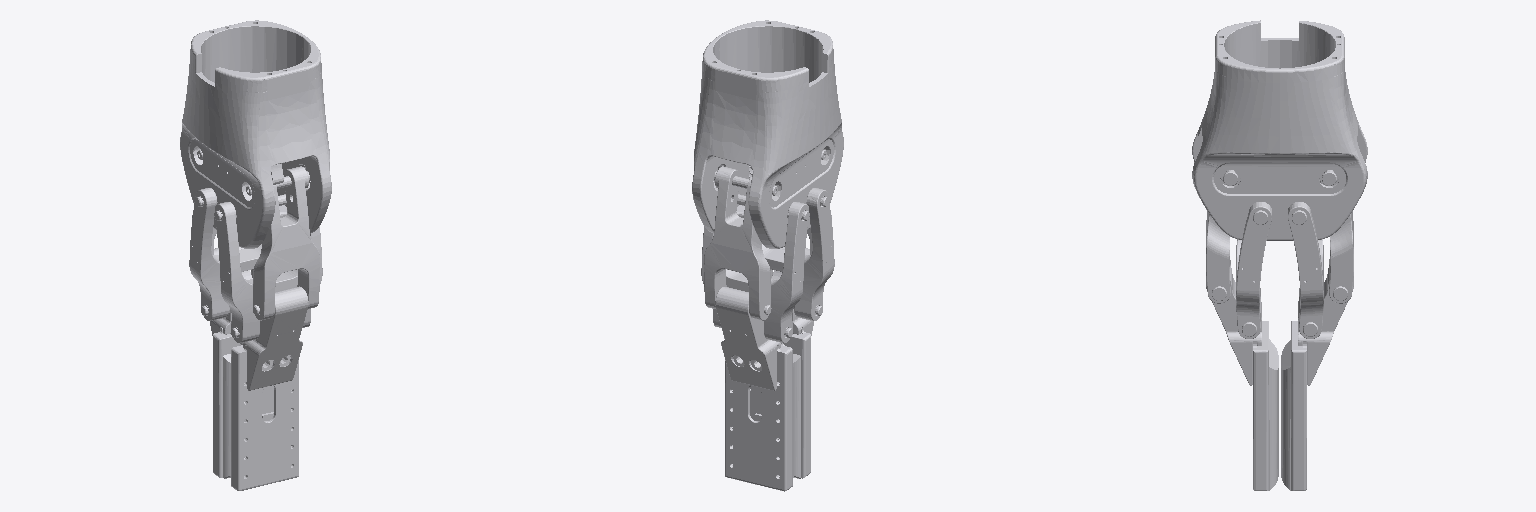
robot.urdf — gripper_V2_0_description:
<?xml version="1.0" encoding="utf-8"?>

<robot
  name="gripper_V2_0_description">
  <link
    name="link_lt_gripper_base">
    <inertial>
      <origin
        xyz="-0.000980332060006024 -0.000165460803064683 -0.0380637297528955"
        rpy="0 0 0" />
      <mass
        value="0.148362683973387" />
      <inertia
        ixx="0.000108524117304559"
        ixy="-1.98918959340993E-07"
        ixz="-5.04558013460517E-07"
        iyy="8.91872435110639E-05"
        iyz="-8.37372786805607E-08"
        izz="7.54521906672916E-05" />
    </inertial>
    <visual>
      <origin
        xyz="0 0 0"
        rpy="0 0 0" />
      <geometry>
        <mesh
          filename="package://gripper_V2_0_description/meshes/link_lt_gripper_base.STL" />
      </geometry>
      <material
        name="">
        <color
          rgba="0.866666666666667 0.866666666666667 0.890196078431372 1" />
      </material>
    </visual>
    <collision>
      <origin
        xyz="0 0 0"
        rpy="0 0 0" />
      <geometry>
        <mesh
          filename="package://gripper_V2_0_description/meshes/link_lt_gripper_base.STL" />
      </geometry>
    </collision>
  </link>
  <link
    name="link_lt_gripper_drive">
    <visual>
      <origin
        xyz="0 0 0"
        rpy="0 0 0" />
      <geometry>
        <mesh
          filename="package://gripper_V2_0_description/meshes/link_lt_gripper_drive.STL" />
      </geometry>
      <material
        name="">
        <color
          rgba="0.866666666666667 0.866666666666667 0.890196078431372 1" />
      </material>
    </visual>
    <collision>
      <origin
        xyz="0 0 0"
        rpy="0 0 0" />
      <geometry>
        <mesh
          filename="package://gripper_V2_0_description/meshes/link_lt_gripper_drive.STL" />
      </geometry>
    </collision>
  </link>
  <joint
    name="joint_lt_gripper_drive"
    type="revolute">
    <origin
      xyz="-0.00079195 0 -0.031"
      rpy="0 0 0" />
    <parent
      link="link_lt_gripper_base" />
    <child
      link="link_lt_gripper_drive" />
    <axis
      xyz="0 0 -1" />
    <limit
      lower="0"
      upper="1.44862"
      effort="6"
      velocity="0.78540" />
  </joint>
  <link
    name="link_lt_gripper_knuckle_left_outer">
    <inertial>
      <origin
        xyz="2.86107331813327E-05 -0.0235652743366583 -0.037949799327442"
        rpy="0 0 0" />
      <mass
        value="0.0542841793588412" />
      <inertia
        ixx="2.49252404499279E-05"
        ixy="1.5522825054212E-11"
        ixz="-2.63456908981634E-11"
        iyy="2.61457716782546E-05"
        iyz="3.1465581323358E-06"
        izz="3.63669814336204E-06" />
    </inertial>
    <visual>
      <origin
        xyz="0 0 0"
        rpy="0 0 0" />
      <geometry>
        <mesh
          filename="package://gripper_V2_0_description/meshes/link_lt_gripper_knuckle_left_outer.STL" />
      </geometry>
      <material
        name="">
        <color
          rgba="0.866666666666667 0.866666666666667 0.890196078431372 1" />
      </material>
    </visual>
    <collision>
      <origin
        xyz="0 0 0"
        rpy="0 0 0" />
      <geometry>
        <mesh
          filename="package://gripper_V2_0_description/meshes/link_lt_gripper_knuckle_left_outer.STL" />
      </geometry>
    </collision>
  </link>
  <joint
    name="joint_lt_gripper_knuckle_left_outer"
    type="revolute">
    <origin
      xyz="-0.00079195 0.018992 -0.05"
      rpy="0 0 0" />
    <parent
      link="link_lt_gripper_base" />
    <child
      link="link_lt_gripper_knuckle_left_outer" />
    <axis
      xyz="1 0 0" />
    <limit
      lower="0"
      upper="1.44862"
      effort="6"
      velocity="0.78540" />
    <mimic
      joint="joint_lt_gripper_drive"
      multiplier="1"
      offset="0" />
  </joint>
  <link
    name="link_lt_gripper_finger_left">
    <inertial>
      <origin
        xyz="2.56595310106296E-05 -0.0254574097735164 -0.0218146948643816"
        rpy="0 0 0" />
      <mass
        value="0.0864607010067869" />
      <inertia
        ixx="3.23998364747912E-05"
        ixy="1.91414144920886E-09"
        ixz="-5.61810150104366E-09"
        iyy="3.47600641615956E-05"
        iyz="2.11804671469973E-06"
        izz="5.51801591712787E-06" />
    </inertial>
    <visual>
      <origin
        xyz="0 0 0"
        rpy="0 0 0" />
      <geometry>
        <mesh
          filename="package://gripper_V2_0_description/meshes/link_lt_gripper_finger_left.STL" />
      </geometry>
      <material
        name="">
        <color
          rgba="0.866666666666667 0.866666666666667 0.890196078431372 1" />
      </material>
    </visual>
    <collision>
      <origin
        xyz="0 0 0"
        rpy="0 0 0" />
      <geometry>
        <mesh
          filename="package://gripper_V2_0_description/meshes/link_lt_gripper_finger_left.STL" />
      </geometry>
    </collision>
  </link>
  <joint
    name="joint_lt_gripper_finger_left"
    type="revolute">
    <origin
      xyz="0 0.0043547 -0.04981"
      rpy="0 0 0" />
    <parent
      link="link_lt_gripper_knuckle_left_outer" />
    <child
      link="link_lt_gripper_finger_left" />
    <axis
      xyz="-1 0 0" />
    <limit
      lower="0"
      upper="1.44862"
      effort="6"
      velocity="0.78540" />
    <mimic
      joint="joint_lt_gripper_drive"
      multiplier="1"
      offset="0" />
  </joint>
  <link
    name="link_lt_gripper_knuckle_left_inner">
    <inertial>
      <origin
        xyz="4.40656810463356E-05 0.00379719277771037 -0.0284917519280255"
        rpy="0 0 0" />
      <mass
        value="0.0231471998062083" />
      <inertia
        ixx="4.33507368102839E-06"
        ixy="8.31321371397514E-12"
        ixz="-1.63717540455618E-11"
        iyy="8.89789850261164E-06"
        iyz="3.34501127650135E-07"
        izz="4.92665747896934E-06" />
    </inertial>
    <visual>
      <origin
        xyz="0 0 0"
        rpy="0 0 0" />
      <geometry>
        <mesh
          filename="package://gripper_V2_0_description/meshes/link_lt_gripper_knuckle_left_inner.STL" />
      </geometry>
      <material
        name="">
        <color
          rgba="0.866666666666667 0.866666666666667 0.890196078431372 1" />
      </material>
    </visual>
    <collision>
      <origin
        xyz="0 0 0"
        rpy="0 0 0" />
      <geometry>
        <mesh
          filename="package://gripper_V2_0_description/meshes/link_lt_gripper_knuckle_left_inner.STL" />
      </geometry>
    </collision>
  </link>
  <joint
    name="joint_lt_gripper_knuckle_left_inner"
    type="revolute">
    <origin
      xyz="-0.00079195 0.0074222 -0.06378"
      rpy="0 0 0" />
    <parent
      link="link_lt_gripper_base" />
    <child
      link="link_lt_gripper_knuckle_left_inner" />
    <axis
      xyz="1 0 0" />
    <limit
      lower="0"
      upper="1.44862"
      effort="6"
      velocity="0.78540" />
    <mimic
      joint="joint_lt_gripper_drive"
      multiplier="1"
      offset="0" />
  </joint>
  <link
    name="link_lt_gripper_knuckle_right_outer">
    <inertial>
      <origin
        xyz="2.81848398361E-05 0.0235652741269535 -0.0379497987923611"
        rpy="0 0 0" />
      <mass
        value="0.0542841781980837" />
      <inertia
        ixx="2.49252400290207E-05"
        ixy="1.55006019846684E-11"
        ixz="2.62589216274227E-11"
        iyy="2.61457712806372E-05"
        iyz="-3.14655803207556E-06"
        izz="3.63669809325367E-06" />
    </inertial>
    <visual>
      <origin
        xyz="0 0 0"
        rpy="0 0 0" />
      <geometry>
        <mesh
          filename="package://gripper_V2_0_description/meshes/link_lt_gripper_knuckle_right_outer.STL" />
      </geometry>
      <material
        name="">
        <color
          rgba="0.866666666666667 0.866666666666667 0.890196078431372 1" />
      </material>
    </visual>
    <collision>
      <origin
        xyz="0 0 0"
        rpy="0 0 0" />
      <geometry>
        <mesh
          filename="package://gripper_V2_0_description/meshes/link_lt_gripper_knuckle_right_outer.STL" />
      </geometry>
    </collision>
  </link>
  <joint
    name="joint_lt_gripper_knuckle_right_outer"
    type="revolute">
    <origin
      xyz="-0.00079195 -0.019008 -0.05"
      rpy="0 0 0" />
    <parent
      link="link_lt_gripper_base" />
    <child
      link="link_lt_gripper_knuckle_right_outer" />
    <axis
      xyz="-1 0 0" />
    <limit
      lower="0"
      upper="1.44862"
      effort="6"
      velocity="0.78540" />
    <mimic
      joint="joint_lt_gripper_drive"
      multiplier="1"
      offset="0" />
  </joint>
  <link
    name="link_lt_gripper_finger_right">
    <inertial>
      <origin
        xyz="1.17830297459924E-05 0.0254574075050252 -0.0218146965213329"
        rpy="0 0 0" />
      <mass
        value="0.0864606849680532" />
      <inertia
        ixx="3.23998306352358E-05"
        ixy="1.91367598294277E-09"
        ixz="5.61632016171255E-09"
        iyy="3.47600582303323E-05"
        iyz="-2.11804532167411E-06"
        izz="5.51801482447027E-06" />
    </inertial>
    <visual>
      <origin
        xyz="0 0 0"
        rpy="0 0 0" />
      <geometry>
        <mesh
          filename="package://gripper_V2_0_description/meshes/link_lt_gripper_finger_right.STL" />
      </geometry>
      <material
        name="">
        <color
          rgba="0.866666666666667 0.866666666666667 0.890196078431372 1" />
      </material>
    </visual>
    <collision>
      <origin
        xyz="0 0 0"
        rpy="0 0 0" />
      <geometry>
        <mesh
          filename="package://gripper_V2_0_description/meshes/link_lt_gripper_finger_right.STL" />
      </geometry>
    </collision>
  </link>
  <joint
    name="joint_lt_gripper_finger_right"
    type="revolute">
    <origin
      xyz="0 -0.0043547 -0.04981"
      rpy="0 0 0" />
    <parent
      link="link_lt_gripper_knuckle_right_outer" />
    <child
      link="link_lt_gripper_finger_right" />
    <axis
      xyz="1 0 0" />
    <limit
      lower="0"
      upper="1.44862"
      effort="6"
      velocity="0.78540" />
    <mimic
      joint="joint_lt_gripper_drive"
      multiplier="1"
      offset="0" />
  </joint>
  <link
    name="link_lt_gripper_knuckle_right_inner">
    <inertial>
      <origin
        xyz="4.43116565245756E-05 -0.00379719277771036 -0.0284917519280255"
        rpy="0 0 0" />
      <mass
        value="0.0231471998062083" />
      <inertia
        ixx="4.33507368102844E-06"
        ixy="8.31321371314128E-12"
        ixz="1.63717540521109E-11"
        iyy="8.89789850261162E-06"
        iyz="-3.34501127650164E-07"
        izz="4.92665747896941E-06" />
    </inertial>
    <visual>
      <origin
        xyz="0 0 0"
        rpy="0 0 0" />
      <geometry>
        <mesh
          filename="package://gripper_V2_0_description/meshes/link_lt_gripper_knuckle_right_inner.STL" />
      </geometry>
      <material
        name="">
        <color
          rgba="0.866666666666667 0.866666666666667 0.890196078431372 1" />
      </material>
    </visual>
    <collision>
      <origin
        xyz="0 0 0"
        rpy="0 0 0" />
      <geometry>
        <mesh
          filename="package://gripper_V2_0_description/meshes/link_lt_gripper_knuckle_right_inner.STL" />
      </geometry>
    </collision>
  </link>
  <joint
    name="joint_lt_gripper_knuckle_right_inner"
    type="revolute">
    <origin
      xyz="-0.00079195 -0.0074378 -0.06378"
      rpy="0 0 0" />
    <parent
      link="link_lt_gripper_base" />
    <child
      link="link_lt_gripper_knuckle_right_inner" />
    <axis
      xyz="-1 0 0" />
    <limit
      lower="0"
      upper="1.44862"
      effort="6"
      velocity="0.78540" />
    <mimic
      joint="joint_lt_gripper_drive"
      multiplier="1"
      offset="0" />
  </joint>
</robot>

--- Render facts (derived) ---
Views: 3 orthographic renders of the robot side by side, from view 1: azimuth 30°, elevation 25°; view 2: azimuth 150°, elevation 25°; view 3: azimuth 270°, elevation 25°.
Model gripper_V2_0_description with 8 links and 7 joints (7 revolute), rooted at link_lt_gripper_base, posed every joint at zero.
Visible links, largest first — view 1: link_lt_gripper_base, link_lt_gripper_finger_right, link_lt_gripper_knuckle_right_outer, link_lt_gripper_knuckle_right_inner, link_lt_gripper_knuckle_left_inner, link_lt_gripper_finger_left; view 2: link_lt_gripper_base, link_lt_gripper_finger_left, link_lt_gripper_knuckle_left_outer, link_lt_gripper_knuckle_left_inner, link_lt_gripper_knuckle_right_inner, link_lt_gripper_finger_right; view 3: link_lt_gripper_base, link_lt_gripper_finger_right, link_lt_gripper_finger_left, link_lt_gripper_knuckle_right_inner, link_lt_gripper_knuckle_left_inner, link_lt_gripper_knuckle_right_outer, link_lt_gripper_knuckle_left_outer.
Boxes of the visible links, left/top/right/bottom form: link_lt_gripper_base: left=180, top=20, right=331, bottom=248; link_lt_gripper_finger_right: left=231, top=286, right=308, bottom=490; link_lt_gripper_knuckle_right_outer: left=246, top=166, right=319, bottom=320; link_lt_gripper_knuckle_right_inner: left=214, top=194, right=322, bottom=342; link_lt_gripper_knuckle_left_inner: left=189, top=188, right=261, bottom=320; link_lt_gripper_finger_left: left=210, top=247, right=252, bottom=478; link_lt_gripper_base: left=692, top=20, right=843, bottom=248; link_lt_gripper_finger_left: left=715, top=287, right=792, bottom=491; link_lt_gripper_knuckle_left_outer: left=704, top=166, right=777, bottom=320; link_lt_gripper_knuckle_left_inner: left=701, top=194, right=809, bottom=342; link_lt_gripper_knuckle_right_inner: left=762, top=188, right=834, bottom=320; link_lt_gripper_finger_right: left=771, top=247, right=813, bottom=478; link_lt_gripper_base: left=1192, top=20, right=1367, bottom=240; link_lt_gripper_finger_right: left=1206, top=266, right=1278, bottom=490; link_lt_gripper_finger_left: left=1281, top=266, right=1353, bottom=490; link_lt_gripper_knuckle_right_inner: left=1236, top=202, right=1271, bottom=338; link_lt_gripper_knuckle_left_inner: left=1288, top=202, right=1323, bottom=338; link_lt_gripper_knuckle_right_outer: left=1206, top=170, right=1240, bottom=303; link_lt_gripper_knuckle_left_outer: left=1319, top=170, right=1353, bottom=303.
Bounding box of the posed robot: 0.047 × 0.0676 × 0.1841 m (x, y, z).
8 mesh visuals loaded from 8 distinct referenced files (8 binary STL).
